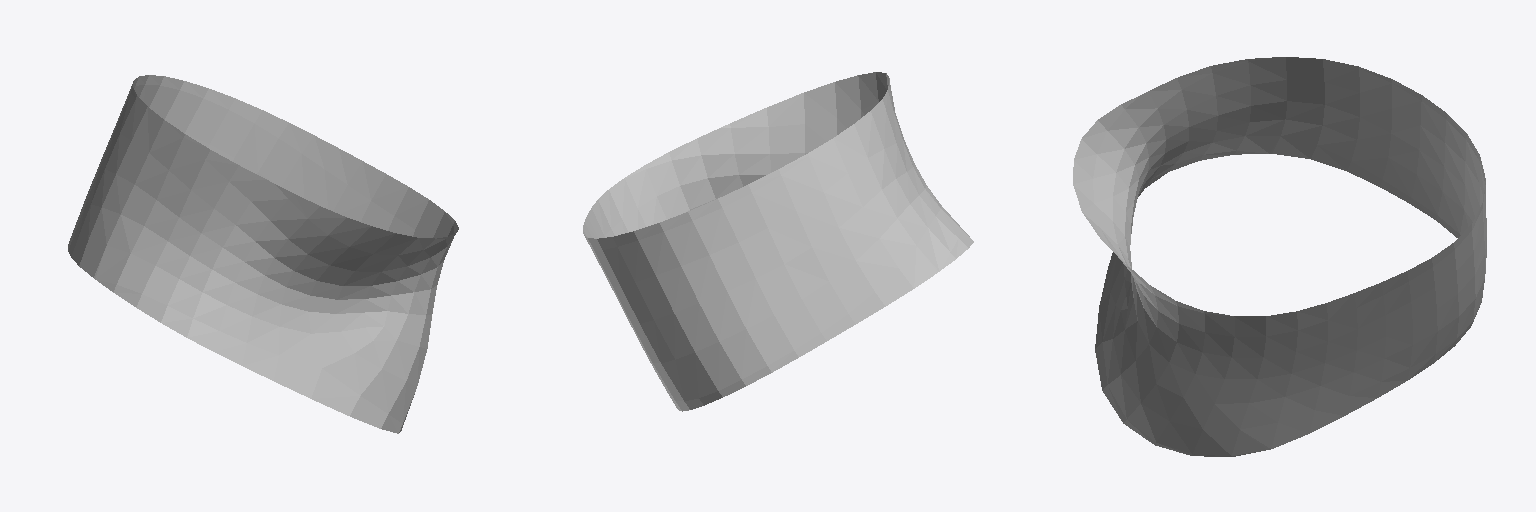
Rendered from cotD.obj.
3 views of the same model, side by side, from view 1: azimuth 30°, elevation 25°; view 2: azimuth 150°, elevation 25°; view 3: azimuth 270°, elevation 25° (orthographic).
Parts seen in each view (by area): view 1: cotD; view 2: cotD; view 3: cotD.
Part boxes in pixels (x1,y1,x2,y2): cotD: (68, 75, 458, 433); cotD: (583, 72, 973, 411); cotD: (1073, 57, 1486, 456).
Size of the model in its own units: 1.29 by 1.15 by 1.39.